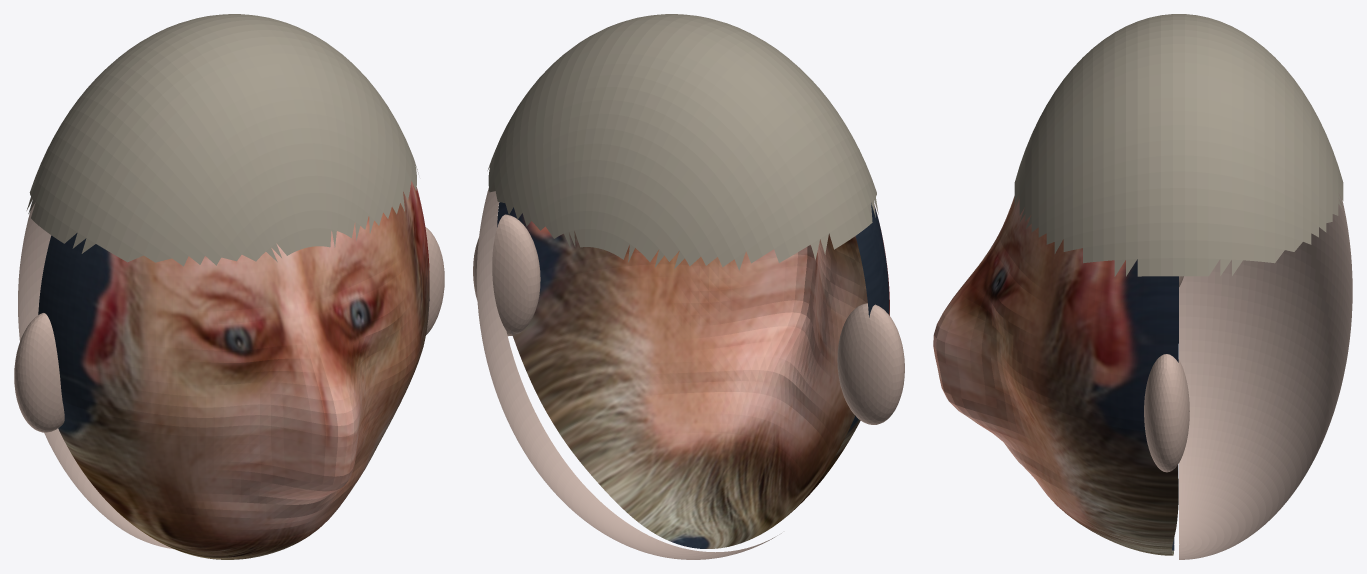
The model's file is q6_face_reconstruction.glb.
3 renders of one model, left to right at view 1: azimuth 30°, elevation 25°; view 2: azimuth 150°, elevation 25°; view 3: azimuth 270°, elevation 25°, orthographic.
Visible parts, largest first — view 1: photo-textured-face, hair-cap, back-of-head, ear-0, ear-1; view 2: photo-textured-face, hair-cap, back-of-head, ear-0, ear-1; view 3: hair-cap, photo-textured-face, back-of-head, ear-1.
Part boxes in pixels (x1,y1,x2,y2): photo-textured-face: [38, 181, 429, 559]; hair-cap: [26, 14, 418, 266]; back-of-head: [18, 202, 173, 549]; ear-0: [14, 313, 64, 432]; ear-1: [425, 227, 444, 334]; photo-textured-face: [497, 202, 889, 548]; hair-cap: [487, 14, 878, 270]; back-of-head: [476, 188, 781, 559]; ear-0: [837, 303, 904, 424]; ear-1: [473, 214, 540, 336]; hair-cap: [1014, 14, 1343, 276]; photo-textured-face: [933, 195, 1178, 555]; back-of-head: [1179, 193, 1352, 559]; ear-1: [1144, 354, 1189, 472].
Bounding box in the file's own units: 2.02 × 2.35 × 1.74.
1 material, 1 textured.
